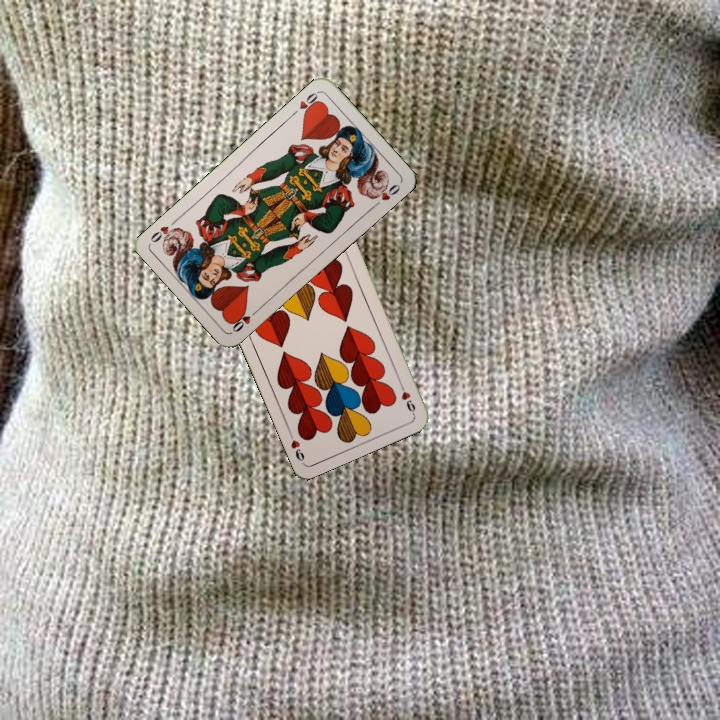H9: (395, 378, 418, 417)
HO: (288, 88, 322, 119), (228, 304, 262, 335)
